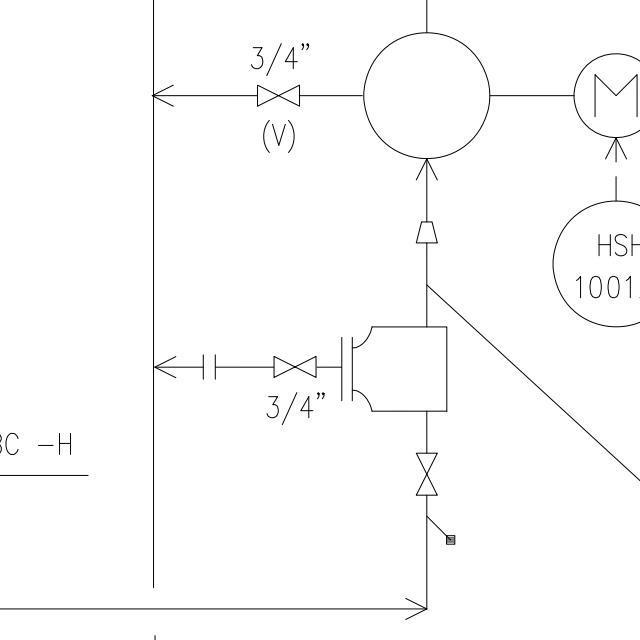GV: (250, 76, 304, 111), (410, 447, 442, 504), (265, 349, 321, 381)
SP: (410, 213, 444, 248)
